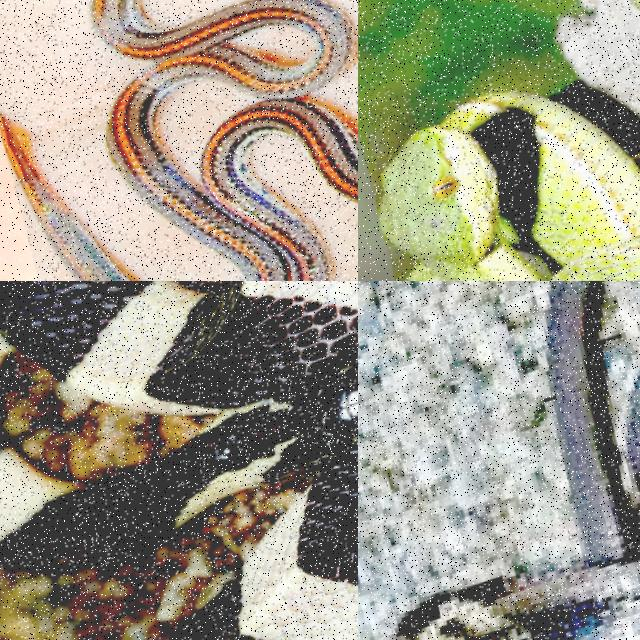Bungarus fasciatus: (0, 281, 357, 639)
Calliophis intestinalis: (92, 0, 357, 280)
Naja kaouthia: (393, 281, 639, 639)
Trimeresurus: (380, 92, 639, 280)
